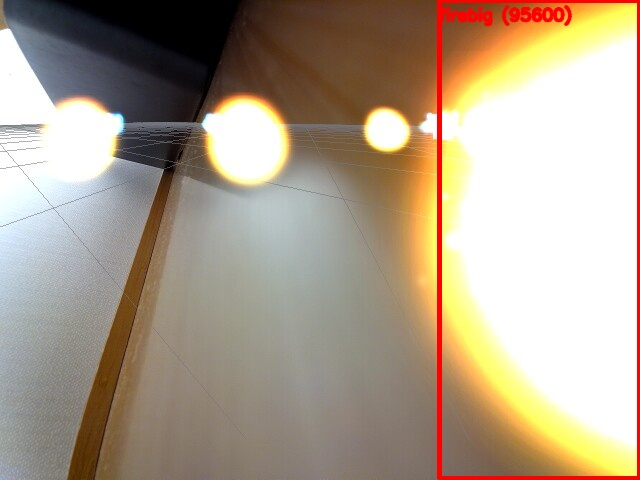firebig: (439, 0, 639, 478)
